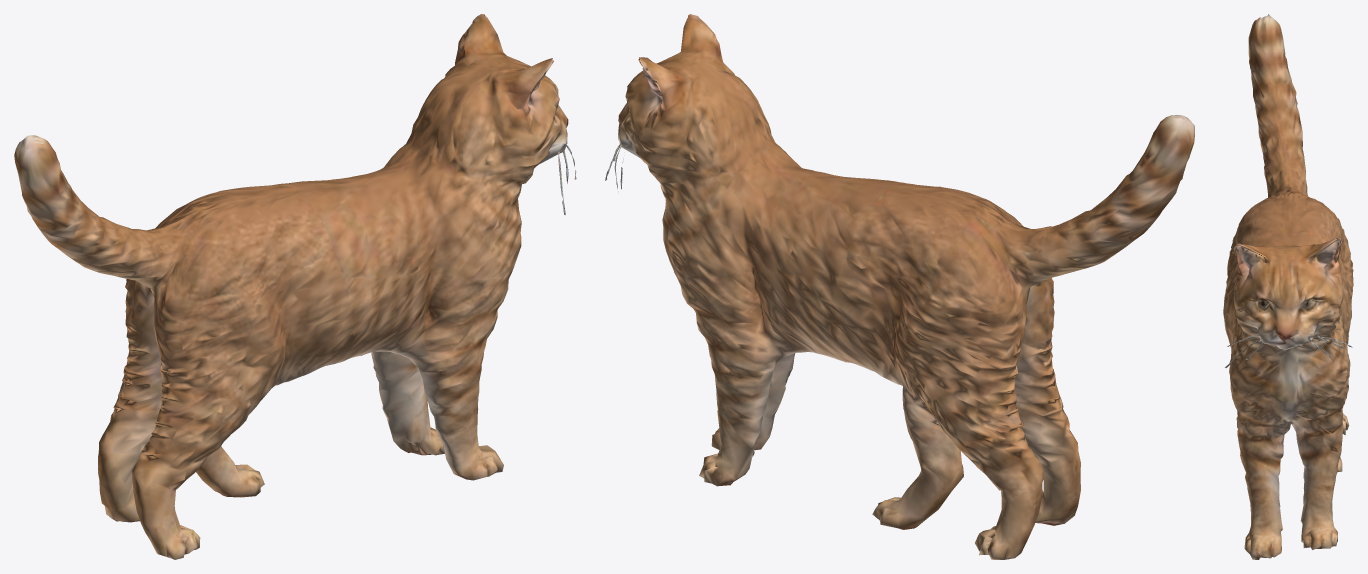
Rendered from ORANGEY-lo.glb.
3 renders of one model, left to right at view 1: azimuth 30°, elevation 25°; view 2: azimuth 150°, elevation 25°; view 3: azimuth 270°, elevation 25°, orthographic. The views are drawn at different scales.
Parts seen in each view (by area): view 1: tripo_node_bda38467-984e-4620-8123-0249f937c209; view 2: tripo_node_bda38467-984e-4620-8123-0249f937c209; view 3: tripo_node_bda38467-984e-4620-8123-0249f937c209.
Boxes of the visible parts, x1=… form: tripo_node_bda38467-984e-4620-8123-0249f937c209: x1=14, y1=14, x2=576, y2=559; tripo_node_bda38467-984e-4620-8123-0249f937c209: x1=605, y1=14, x2=1194, y2=559; tripo_node_bda38467-984e-4620-8123-0249f937c209: x1=1223, y1=14, x2=1353, y2=559.
Bounding box in the file's own units: 1.32 × 0.9963 × 0.3252.
Materials: 1 (1 with a texture image).
